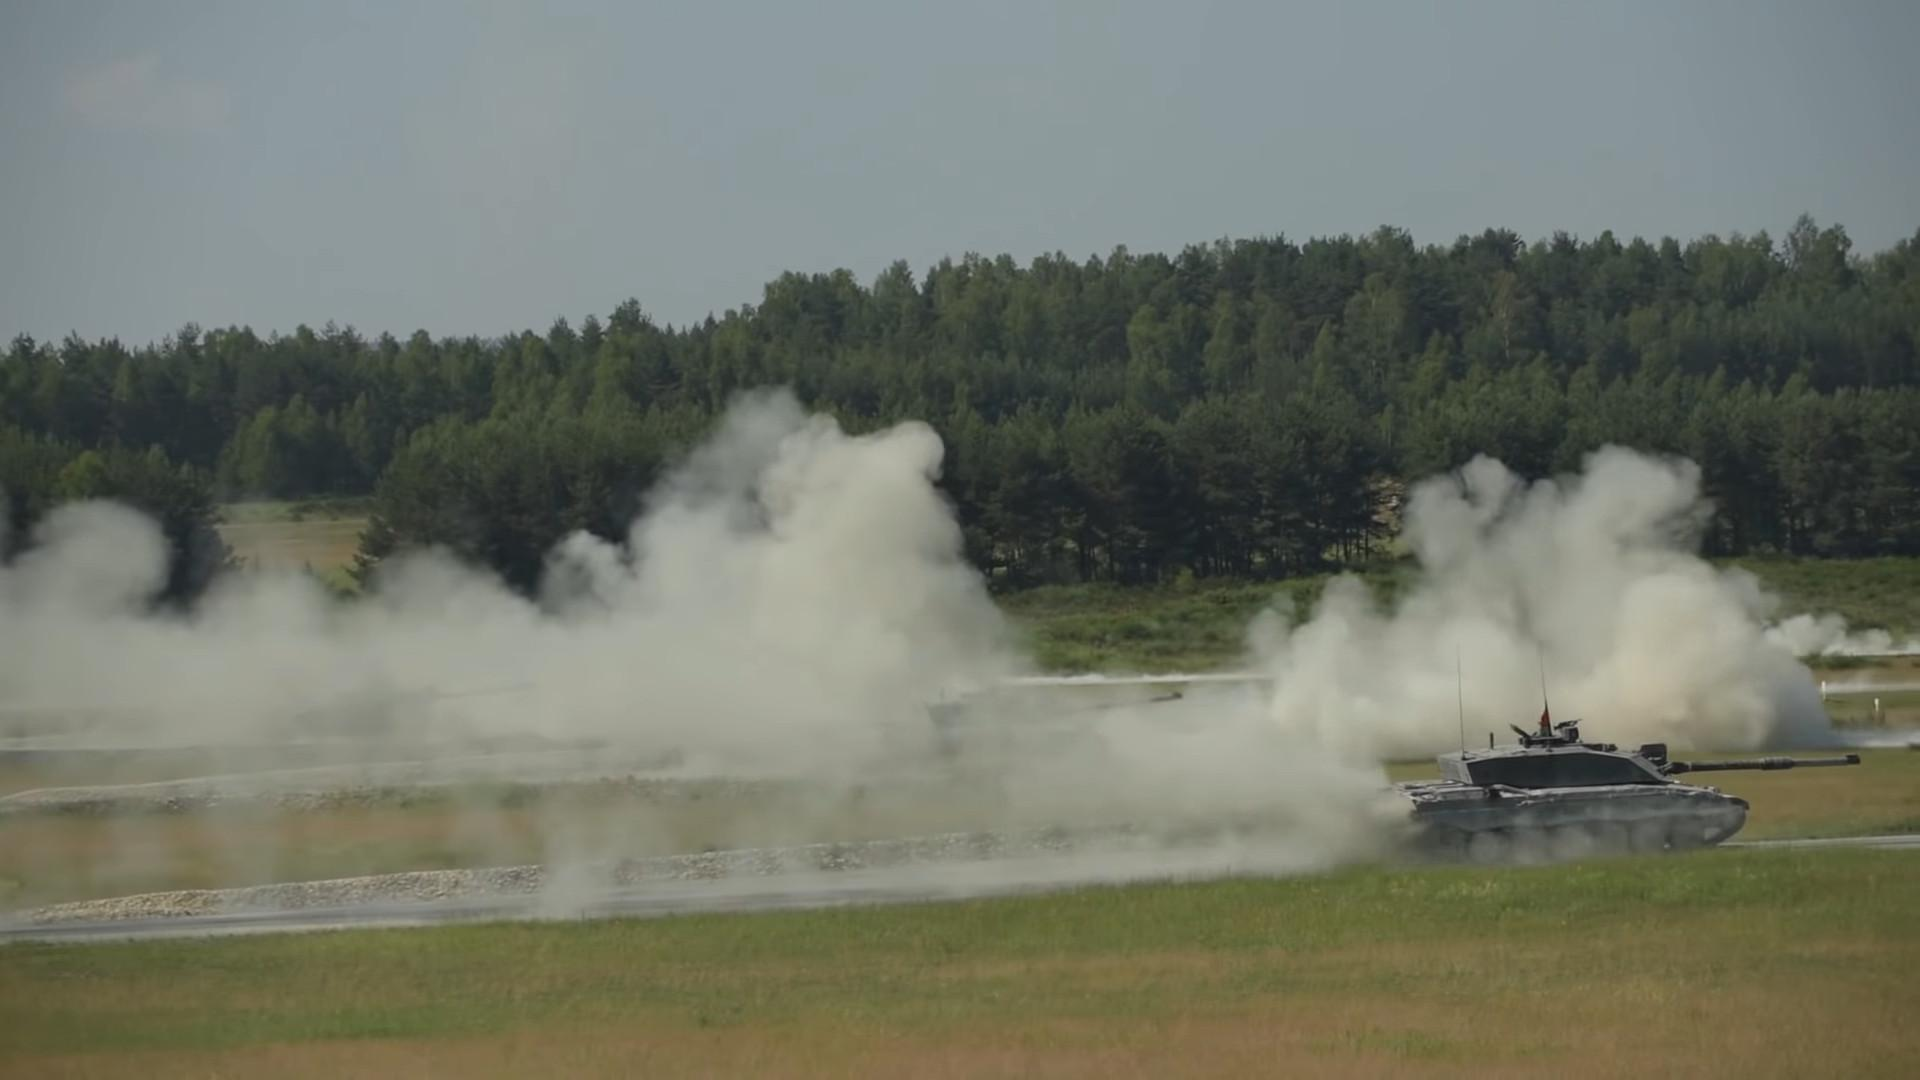tank: (1395, 725, 1861, 868)
